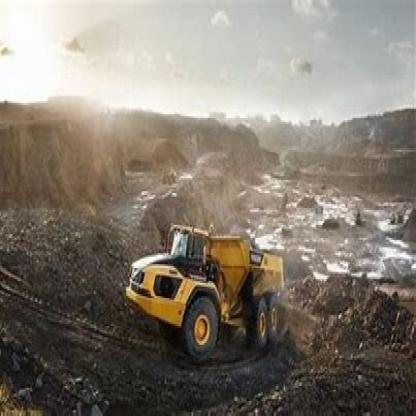dump_truck: (122, 212, 291, 356)
